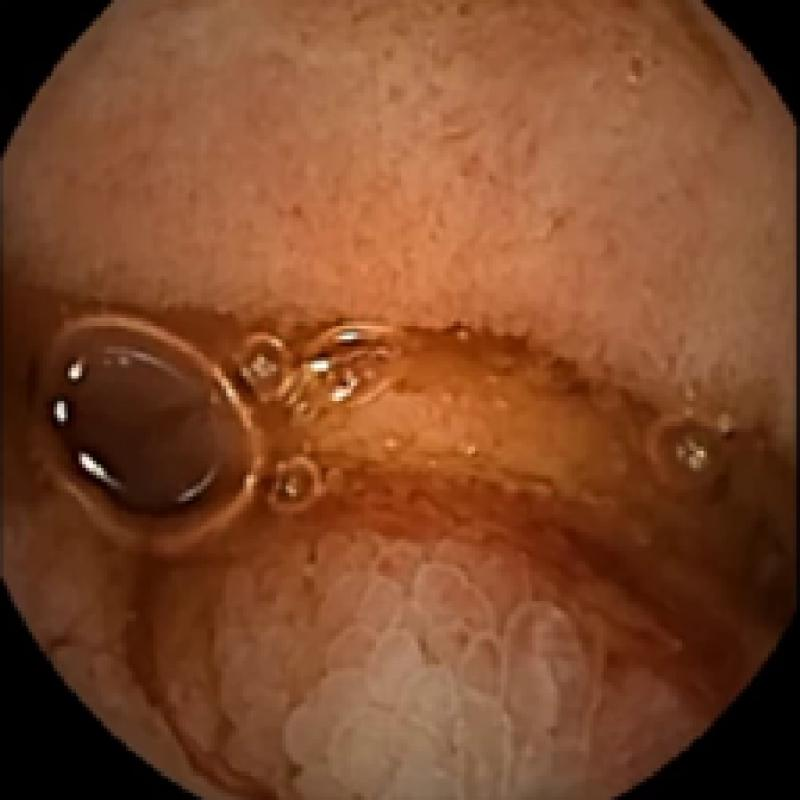bleeding: (7, 357, 793, 786)
